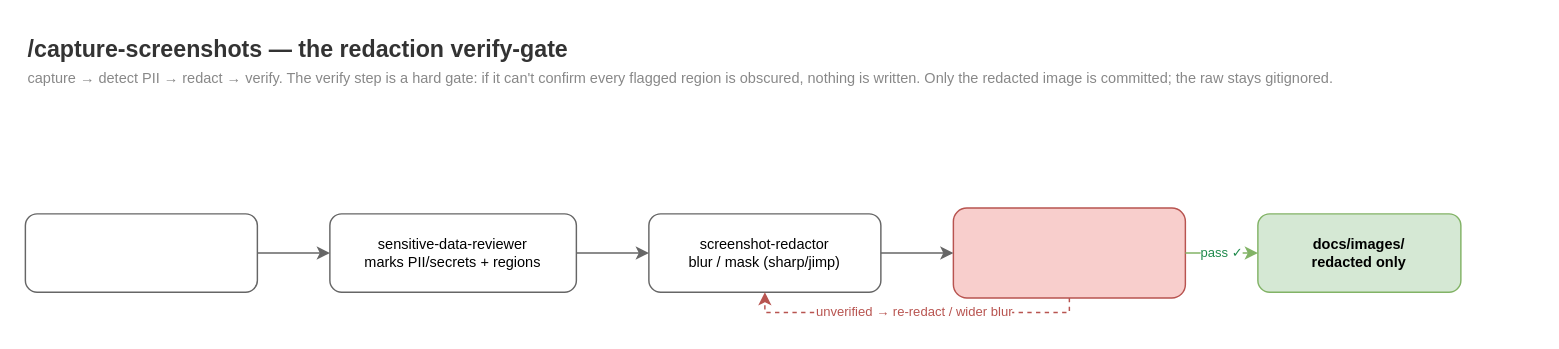
This 1559x349 diagram has some shape labels left out. Each missing label, with the centre of its shape:
screenshot-capturer → raw (gitignored): point (140, 252)
VERIFY GATE coverage unproven → no write: point (1068, 252)
